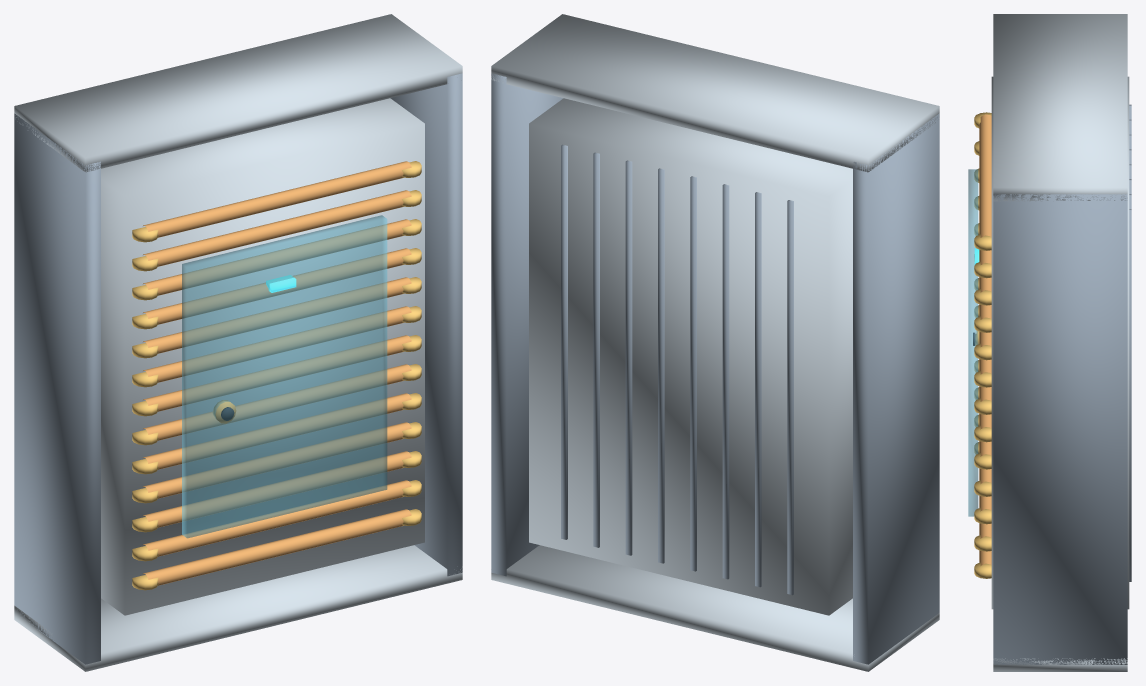
The model's file is 44_L88_HumidityCondensingHeatExchanger.fbx.
The picture shows the model from 3 angles, left to right: view 1: azimuth 30°, elevation 25°; view 2: azimuth 150°, elevation 25°; view 3: azimuth 270°, elevation 25°; orthographic projection. The views are drawn at different scales.
Visible parts, largest first — view 1: L87_HumidityCondensingHeatExc_Part_0001, L87_HumidityCondensingHeatExc_Part_0000, L87_HumidityCondensingHeatExc_Part_0005, L87_HumidityCondensingHeatExc_Part_0002, L87_HumidityCondensingHeatExc_Part_0003, L87_HumidityCondensingHeatExc_Part_0004; view 2: L87_HumidityCondensingHeatExc_Part_0001, L87_HumidityCondensingHeatExc_Part_0000; view 3: L87_HumidityCondensingHeatExc_Part_0000, L87_HumidityCondensingHeatExc_Part_0001, L87_HumidityCondensingHeatExc_Part_0002, L87_HumidityCondensingHeatExc_Part_0005, L87_HumidityCondensingHeatExc_Part_0003, L87_HumidityCondensingHeatExc_Part_0004.
Boxes of the visible parts, x1,y1,x2,y2 form: L87_HumidityCondensingHeatExc_Part_0001: (14, 14, 462, 671); L87_HumidityCondensingHeatExc_Part_0000: (14, 73, 462, 664); L87_HumidityCondensingHeatExc_Part_0005: (182, 215, 387, 538); L87_HumidityCondensingHeatExc_Part_0002: (143, 161, 411, 585); L87_HumidityCondensingHeatExc_Part_0003: (132, 248, 421, 590); L87_HumidityCondensingHeatExc_Part_0004: (132, 161, 421, 300); L87_HumidityCondensingHeatExc_Part_0001: (491, 14, 939, 671); L87_HumidityCondensingHeatExc_Part_0000: (491, 73, 939, 664); L87_HumidityCondensingHeatExc_Part_0000: (993, 104, 1131, 664); L87_HumidityCondensingHeatExc_Part_0001: (991, 14, 1129, 671); L87_HumidityCondensingHeatExc_Part_0002: (979, 114, 991, 565); L87_HumidityCondensingHeatExc_Part_0005: (968, 169, 978, 516); L87_HumidityCondensingHeatExc_Part_0003: (974, 196, 991, 578); L87_HumidityCondensingHeatExc_Part_0004: (974, 112, 991, 305).
Bounding box in the file's own units: 2.45 × 3.19 × 0.975.
